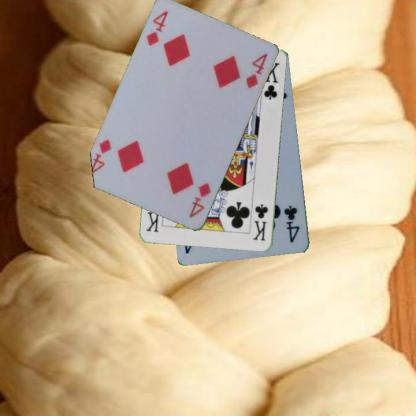4c: (281, 203, 301, 244)
4d: (143, 8, 170, 49), (186, 180, 213, 220)
Kc: (250, 202, 269, 242)
